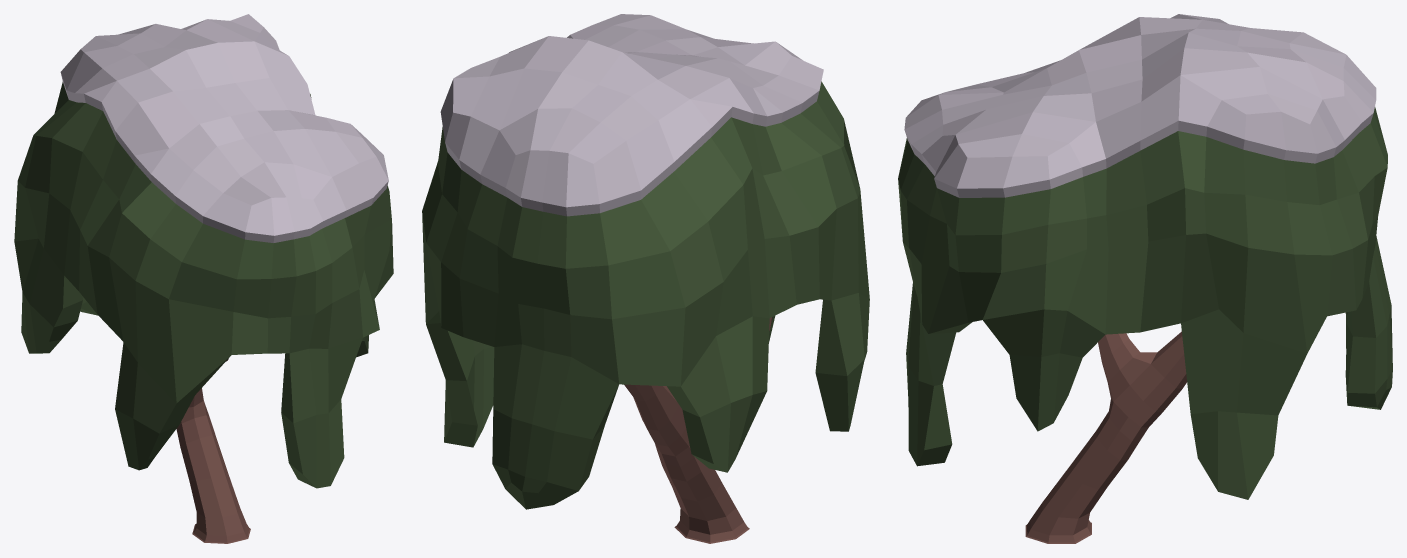
The model's file is Willow_Snow_4.glb.
3 views of the same model, side by side, from view 1: azimuth 30°, elevation 25°; view 2: azimuth 150°, elevation 25°; view 3: azimuth 270°, elevation 25° (orthographic). The views are drawn at different scales.
Visible parts, largest first — view 1: Willow_Snow_4; view 2: Willow_Snow_4; view 3: Willow_Snow_4.
Part boxes in pixels (x1,y1,x2,y2): Willow_Snow_4: (14, 14, 393, 543); Willow_Snow_4: (422, 14, 869, 543); Willow_Snow_4: (898, 14, 1392, 543).
Bounding box in the file's own units: 2.19 × 3.46 × 3.04.
